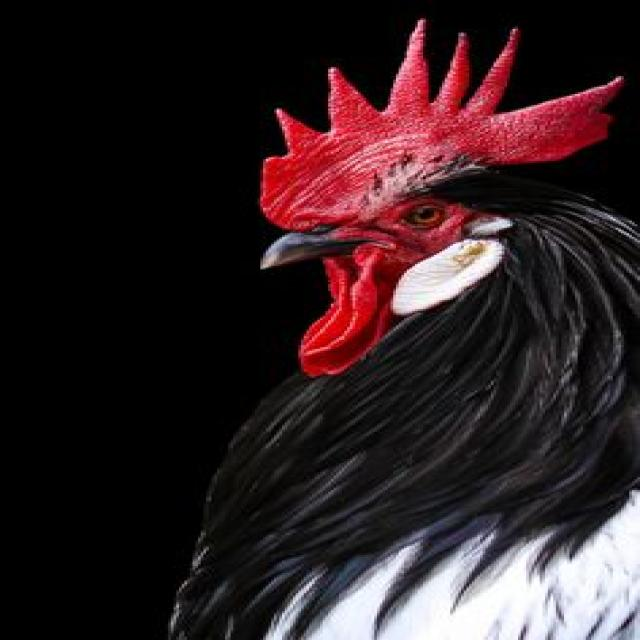Herbivorous: (165, 20, 640, 640)
